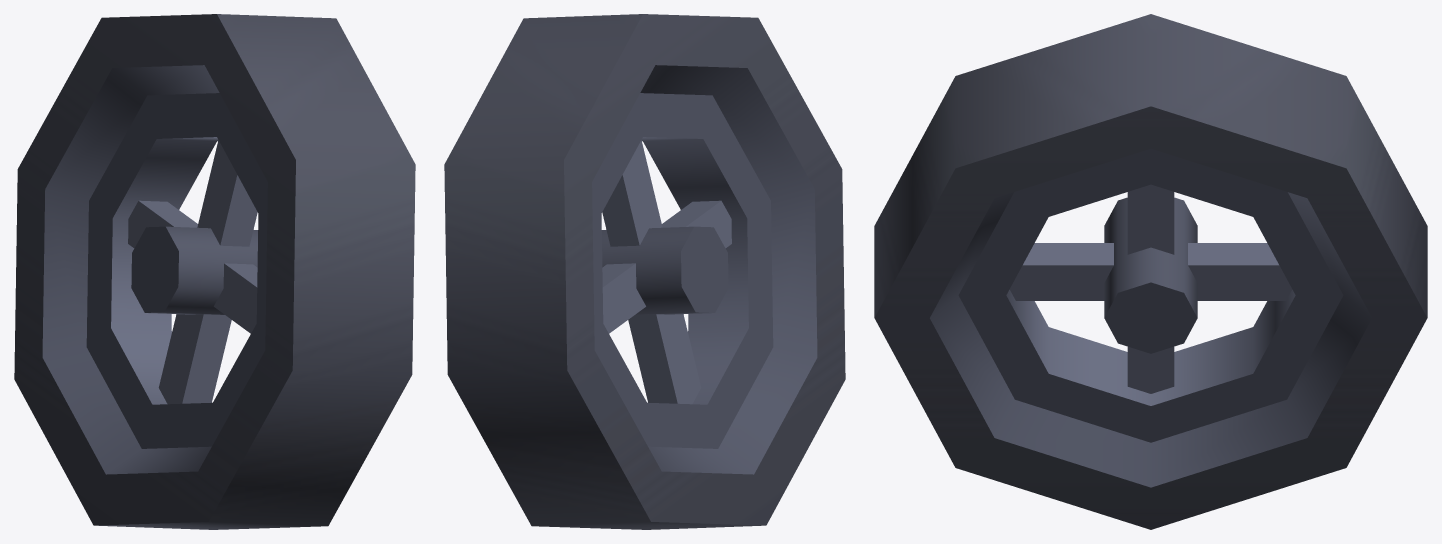
The model's file is wheel.glb.
3 views of the same model, side by side, from view 1: azimuth 30°, elevation 25°; view 2: azimuth 150°, elevation 25°; view 3: azimuth 270°, elevation 25° (orthographic).
Parts seen in each view (by area): view 1: wheel; view 2: wheel; view 3: wheel.
Boxes of the visible parts, x1,y1,x2,y2 form: wheel: [14, 14, 415, 529]; wheel: [444, 14, 845, 529]; wheel: [874, 14, 1427, 529].
Size of the model in its own units: 0.2384 by 0.4833 by 0.4678.
1 material, 1 textured.
